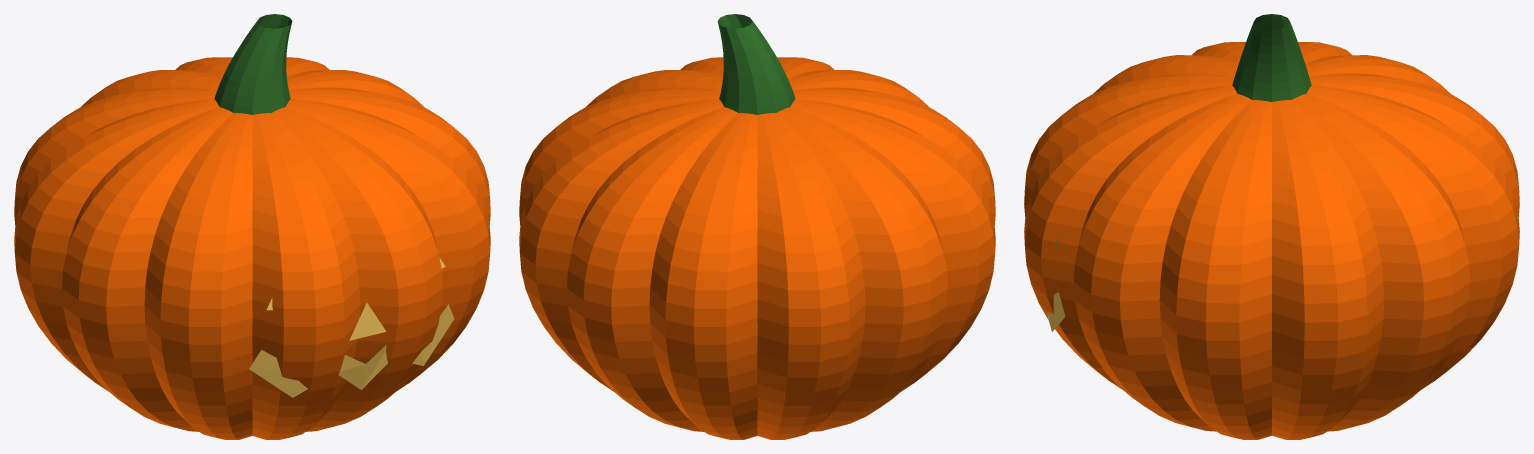
Rendered from 01_jack_o_lantern.obj.
The picture shows the model from 3 angles, left to right: view 1: azimuth 30°, elevation 25°; view 2: azimuth 150°, elevation 25°; view 3: azimuth 270°, elevation 25°; orthographic projection. The views are drawn at different scales.
Parts seen in each view (by area): view 1: Pumpkin_Body, Pumpkin_Stem, Glowing_Face_Emissive; view 2: Pumpkin_Body, Pumpkin_Stem; view 3: Pumpkin_Body, Pumpkin_Stem.
Boxes of the visible parts, x1,y1,x2,y2 form: Pumpkin_Body: [14, 57, 490, 439]; Pumpkin_Stem: [214, 14, 292, 114]; Glowing_Face_Emissive: [249, 257, 454, 397]; Pumpkin_Body: [519, 57, 995, 439]; Pumpkin_Stem: [717, 14, 795, 114]; Pumpkin_Body: [1024, 42, 1519, 439]; Pumpkin_Stem: [1232, 14, 1311, 101].
Size of the model in its own units: 2.21 by 2 by 2.21.
